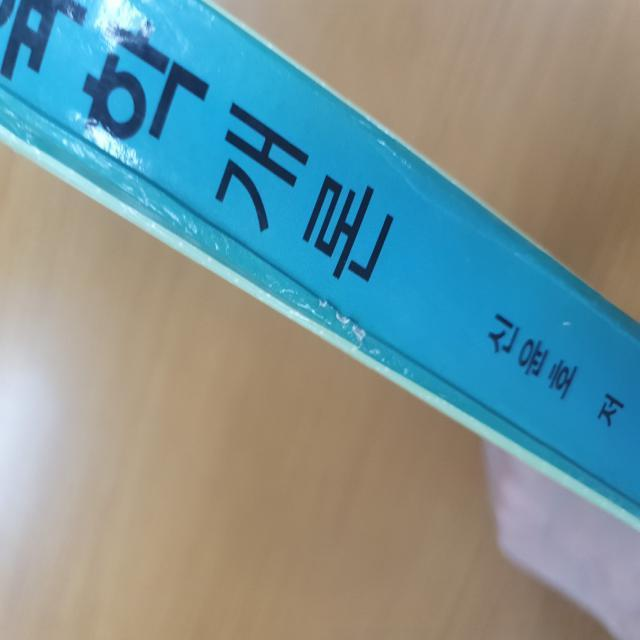Wornout: (319, 292, 414, 379)
